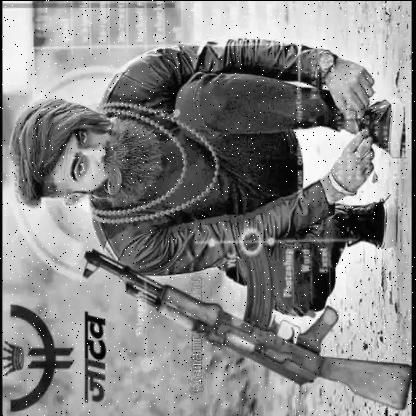rifle: (80, 246, 413, 412)
